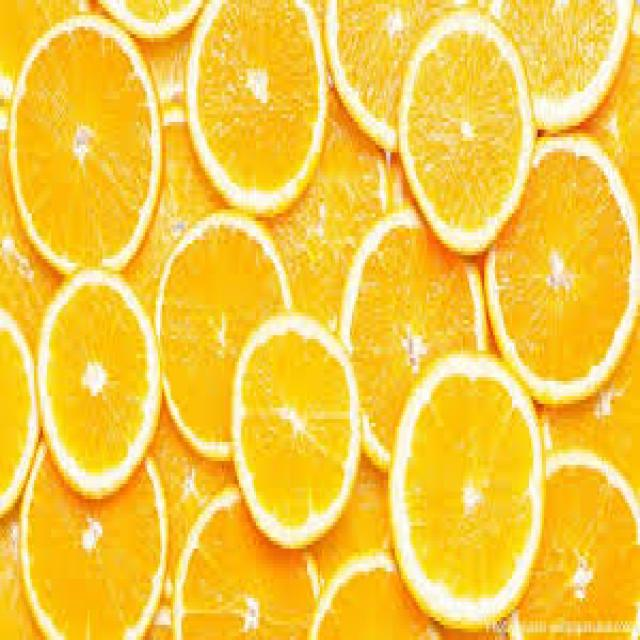orange: (228, 309, 360, 536)
